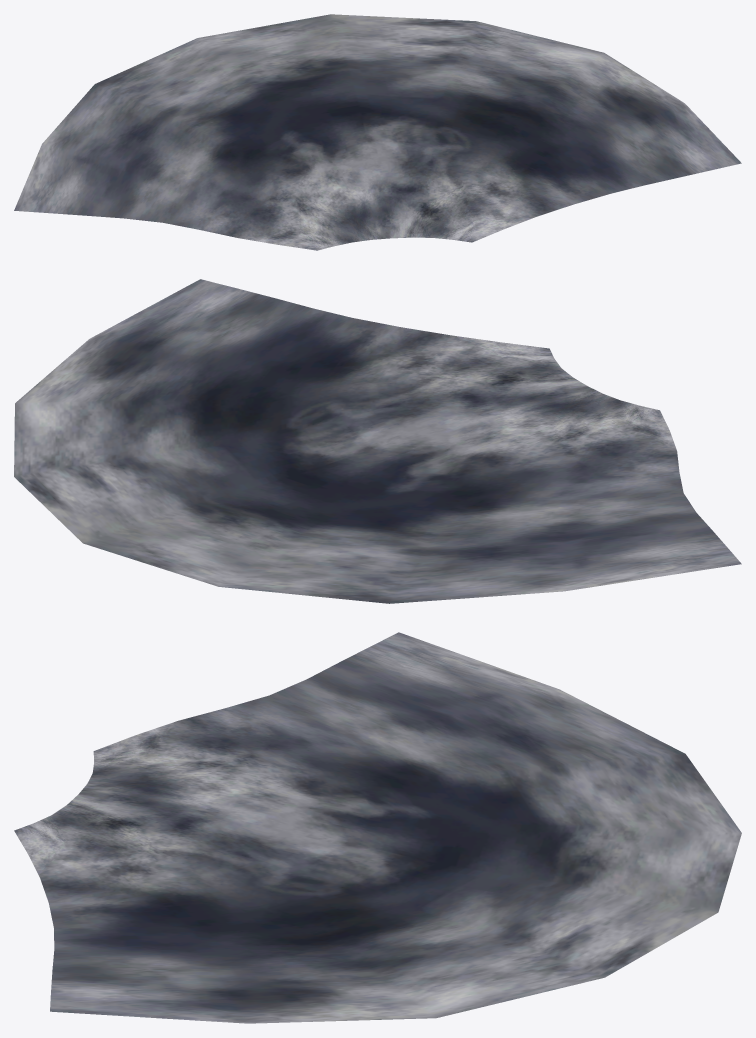
The model's file is CB_NEWPLAYSURFACE_CB_WATERFALLS16.fbx.
3 views of the same model, one above another, from view 1: azimuth 30°, elevation 25°; view 2: azimuth 150°, elevation 25°; view 3: azimuth 270°, elevation 25° (orthographic). The views are drawn at different scales.
Visible parts, largest first — view 1: CB_NEWPLAYSURFACE_CB_WATERFALLS16; view 2: CB_NEWPLAYSURFACE_CB_WATERFALLS16; view 3: CB_NEWPLAYSURFACE_CB_WATERFALLS16.
Part boxes in pixels (bbox=[...]): CB_NEWPLAYSURFACE_CB_WATERFALLS16: bbox=[14, 14, 741, 250]; CB_NEWPLAYSURFACE_CB_WATERFALLS16: bbox=[14, 279, 741, 603]; CB_NEWPLAYSURFACE_CB_WATERFALLS16: bbox=[14, 632, 741, 1023].
Size of the model in its own units: 173509 by 1594 by 136378.
Materials: 1 (1 with a texture image).
